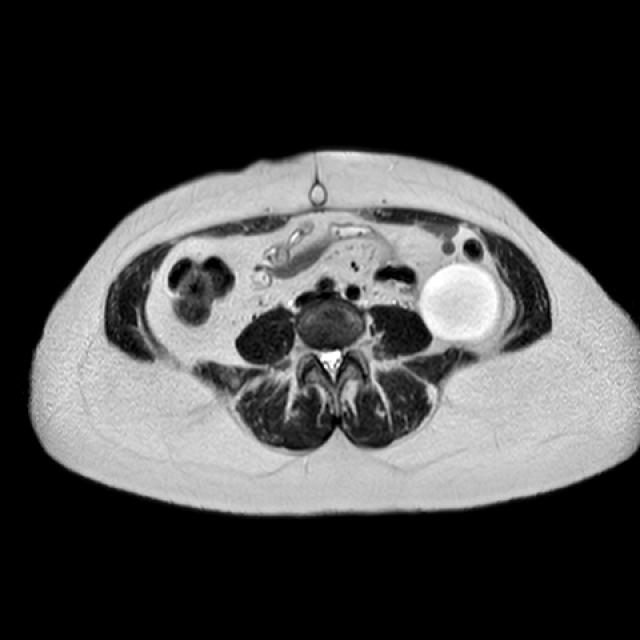sol: (414, 260, 506, 347)
